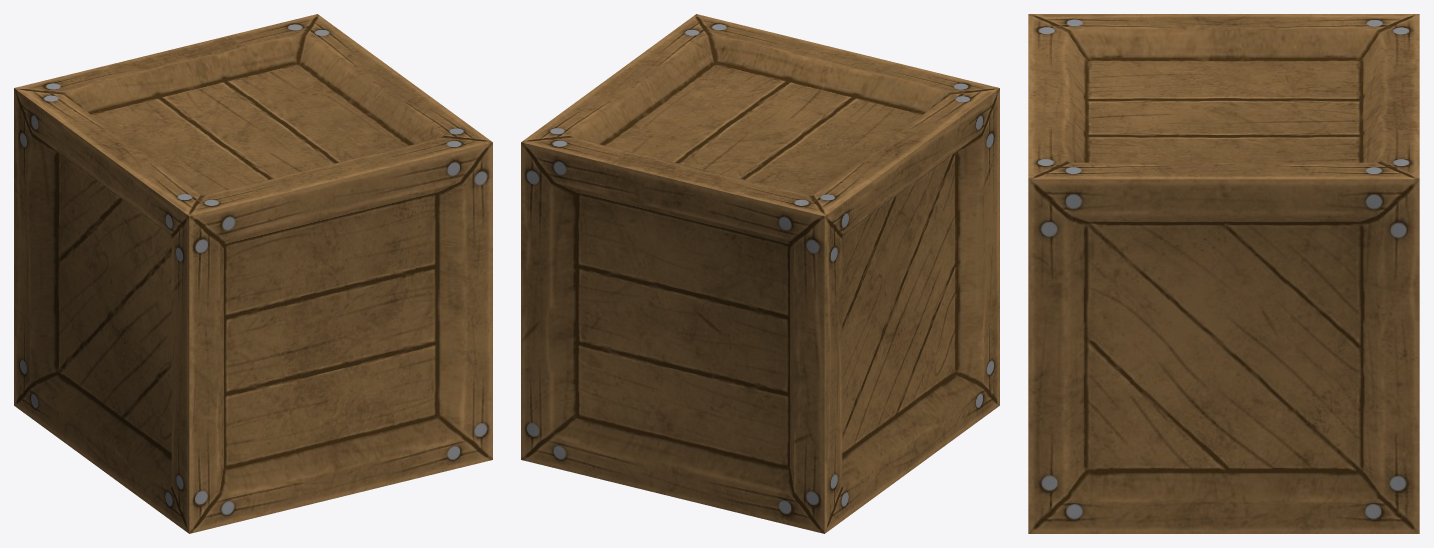
The model's file is stylized_crate.glb.
The picture shows the model from 3 angles, left to right: view 1: azimuth 30°, elevation 25°; view 2: azimuth 150°, elevation 25°; view 3: azimuth 270°, elevation 25°; orthographic projection. The views are drawn at different scales.
Parts seen in each view (by area): view 1: crate; view 2: crate; view 3: crate.
Part boxes in pixels (box(x1,y1,x2,y2)): crate: box(14, 14, 492, 533); crate: box(521, 14, 999, 533); crate: box(1028, 14, 1419, 533).
Size of the model in its own units: 1.11 by 1.11 by 1.11.
Materials: 1 (1 with a texture image).
